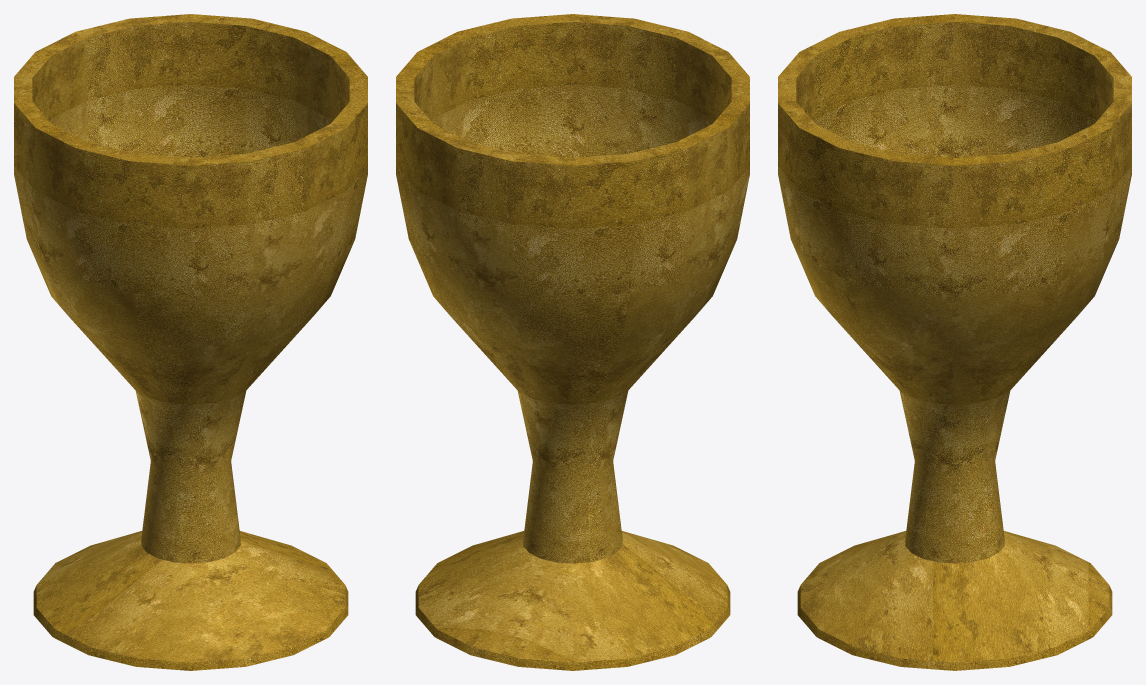
Rendered from Chalice.FBX.
The picture shows the model from 3 angles, left to right: view 1: azimuth 30°, elevation 25°; view 2: azimuth 150°, elevation 25°; view 3: azimuth 270°, elevation 25°; orthographic projection.
Visible parts, largest first — view 1: chalice; view 2: chalice; view 3: chalice.
Part boxes in pixels (left/top/right/bottom): chalice: left=14, top=14, right=367, bottom=670; chalice: left=396, top=14, right=749, bottom=670; chalice: left=778, top=14, right=1131, bottom=670.
Size of the model in its own units: 12.37 by 19.51 by 12.18.
1 material, 1 textured.
